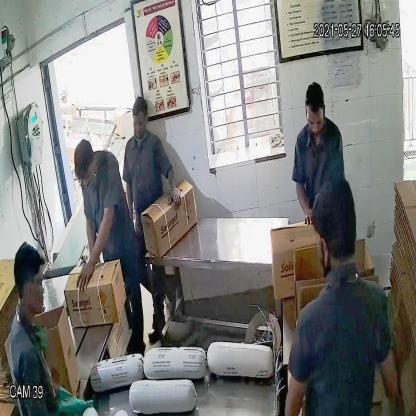no_goggles: (301, 110, 329, 132)
